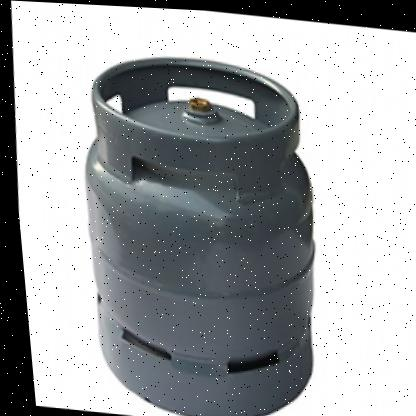gas-tank: (45, 33, 351, 415)
